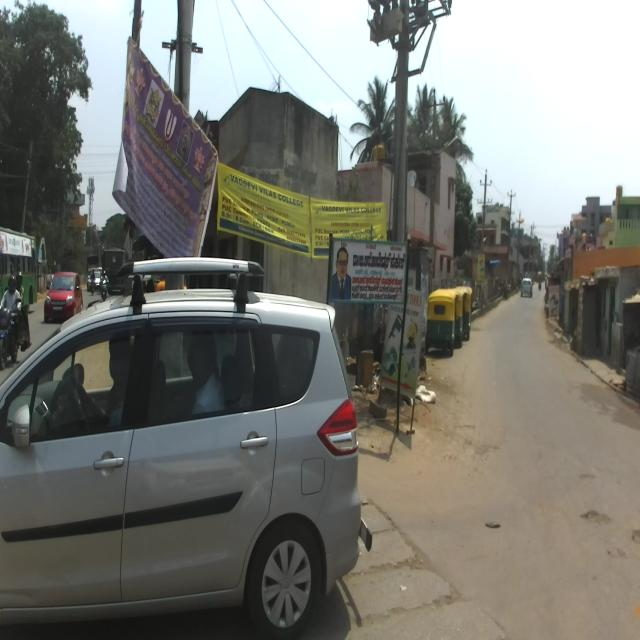car ahead at: (0, 253, 371, 629)
